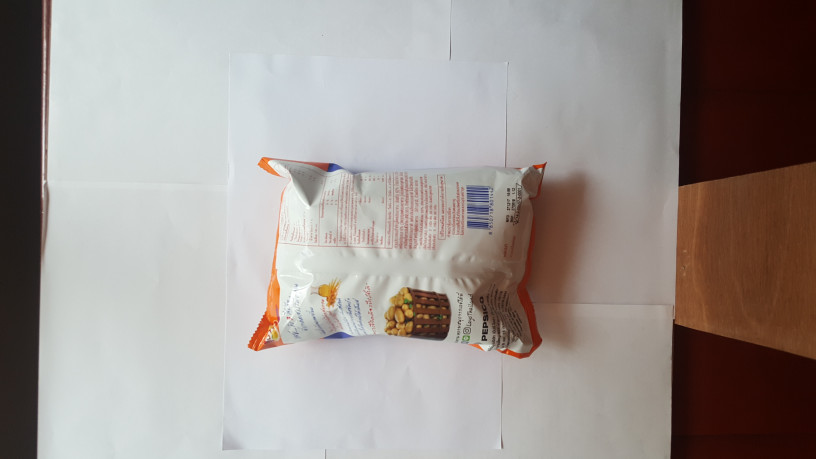lays-bbq: (241, 147, 557, 365)
